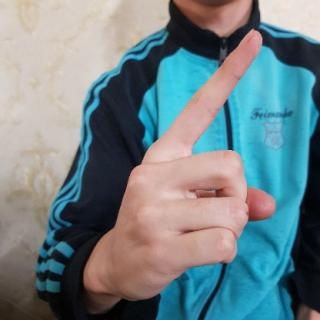RAA: (100, 25, 279, 308)
